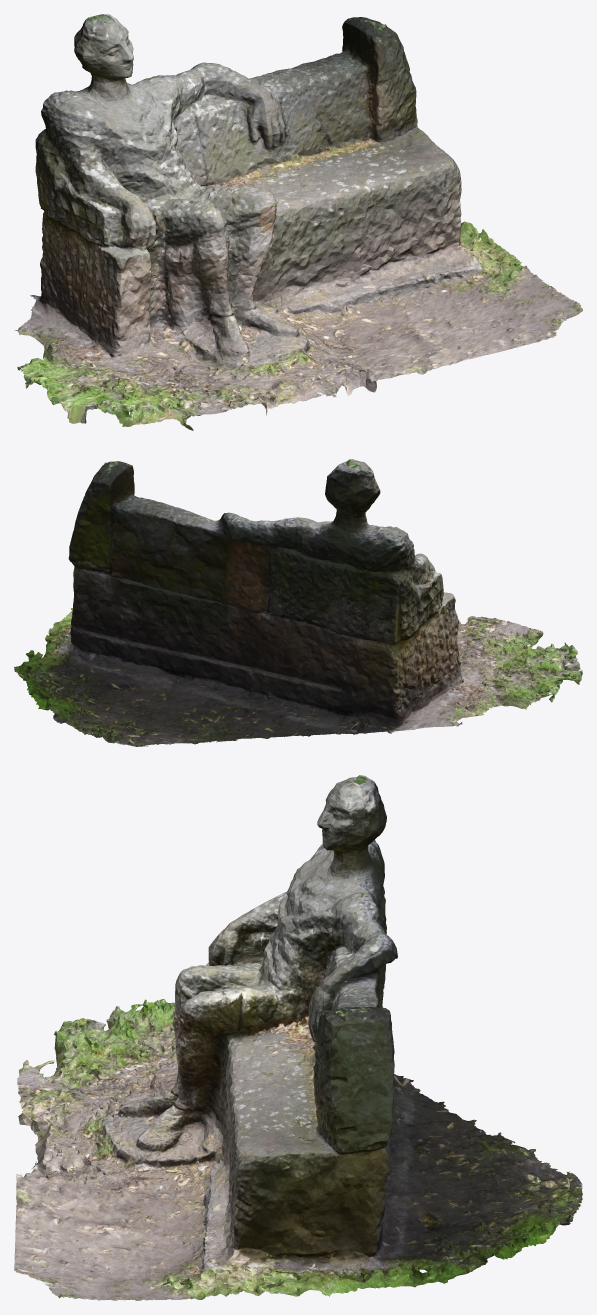
The picture shows the model from 3 angles, top to bottom: view 1: azimuth 30°, elevation 25°; view 2: azimuth 150°, elevation 25°; view 3: azimuth 270°, elevation 25°; orthographic projection. The views are drawn at different scales.
Parts seen in each view (by area): view 1: 1k.25k; view 2: 1k.25k; view 3: 1k.25k.
Part boxes in pixels (<box>): 1k.25k: <box>14,14,582,430</box>; 1k.25k: <box>14,459,582,746</box>; 1k.25k: <box>14,775,582,1300</box>.
Size of the model in its own units: 2.39 by 1.36 by 2.05.
Materials: 1 (1 with a texture image).
